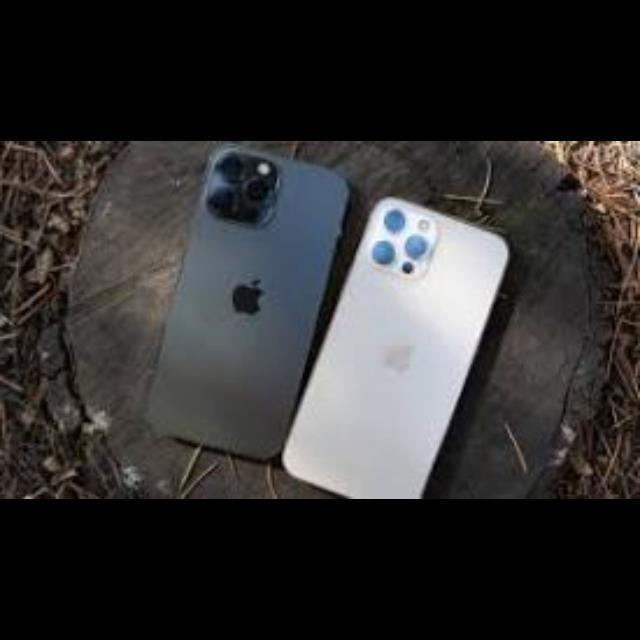phone: (170, 140, 520, 497)
